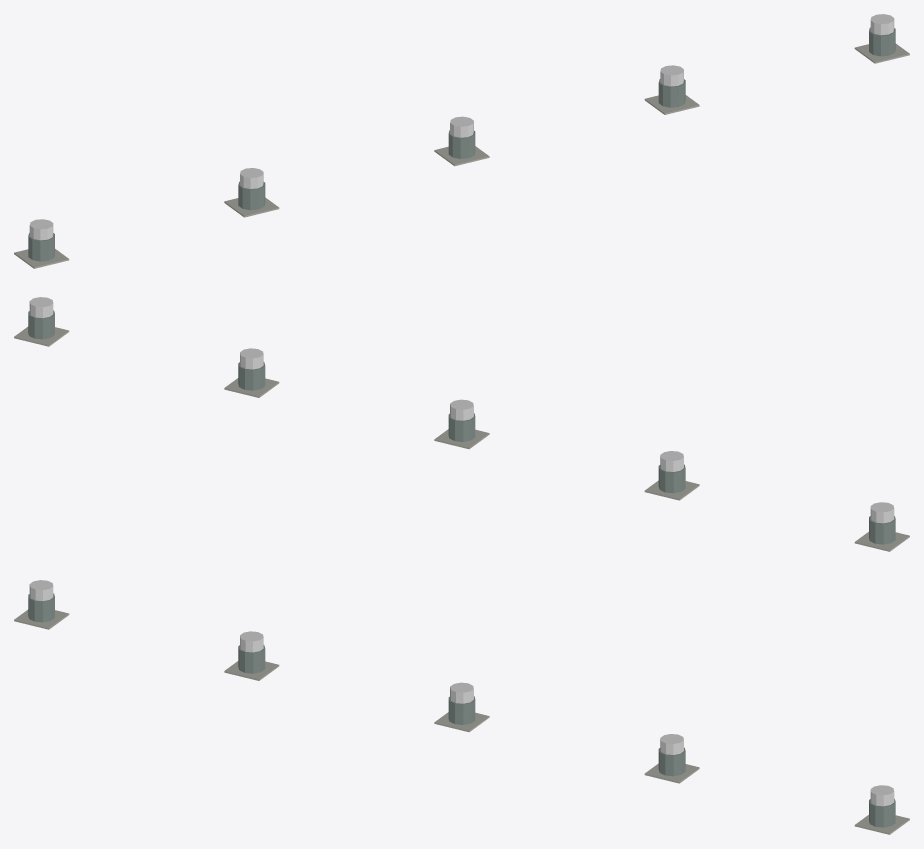
Rendered from SM_Balizas_v0_Blancas_LOD0.fbx.
3 views of the same model, one above another, from view 1: azimuth 30°, elevation 25°; view 2: azimuth 150°, elevation 25°; view 3: azimuth 330°, elevation 25° (orthographic).
Visible parts, largest first — view 1: SM_ambiente_aerodromo_v5_LOD0; view 2: SM_ambiente_aerodromo_v5_LOD0; view 3: SM_ambiente_aerodromo_v5_LOD0.
Part boxes in pixels (<box>): SM_ambiente_aerodromo_v5_LOD0: <box>14,14,909,268</box>; SM_ambiente_aerodromo_v5_LOD0: <box>14,297,909,551</box>; SM_ambiente_aerodromo_v5_LOD0: <box>14,580,909,834</box>.
Bounding box in the file's own units: 12.5 × 0.45 × 0.5.
